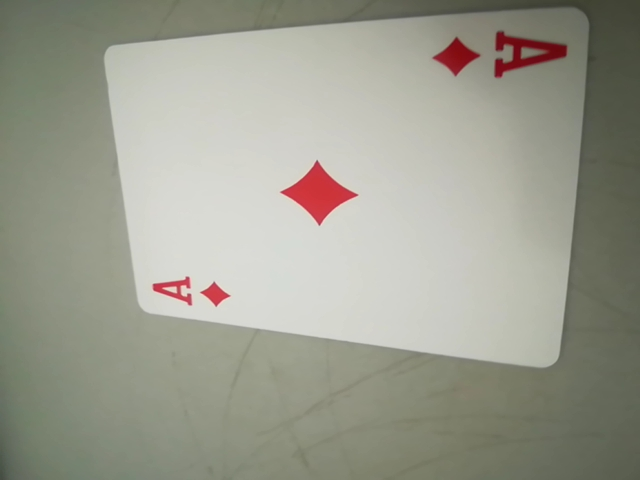fk a: (430, 23, 567, 85), (146, 267, 239, 314)
